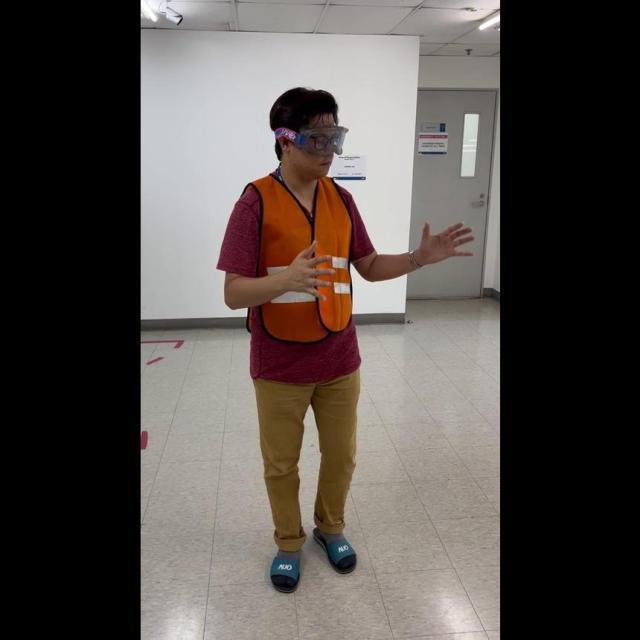bare_hand: (269, 237, 342, 297), (414, 215, 473, 265)
